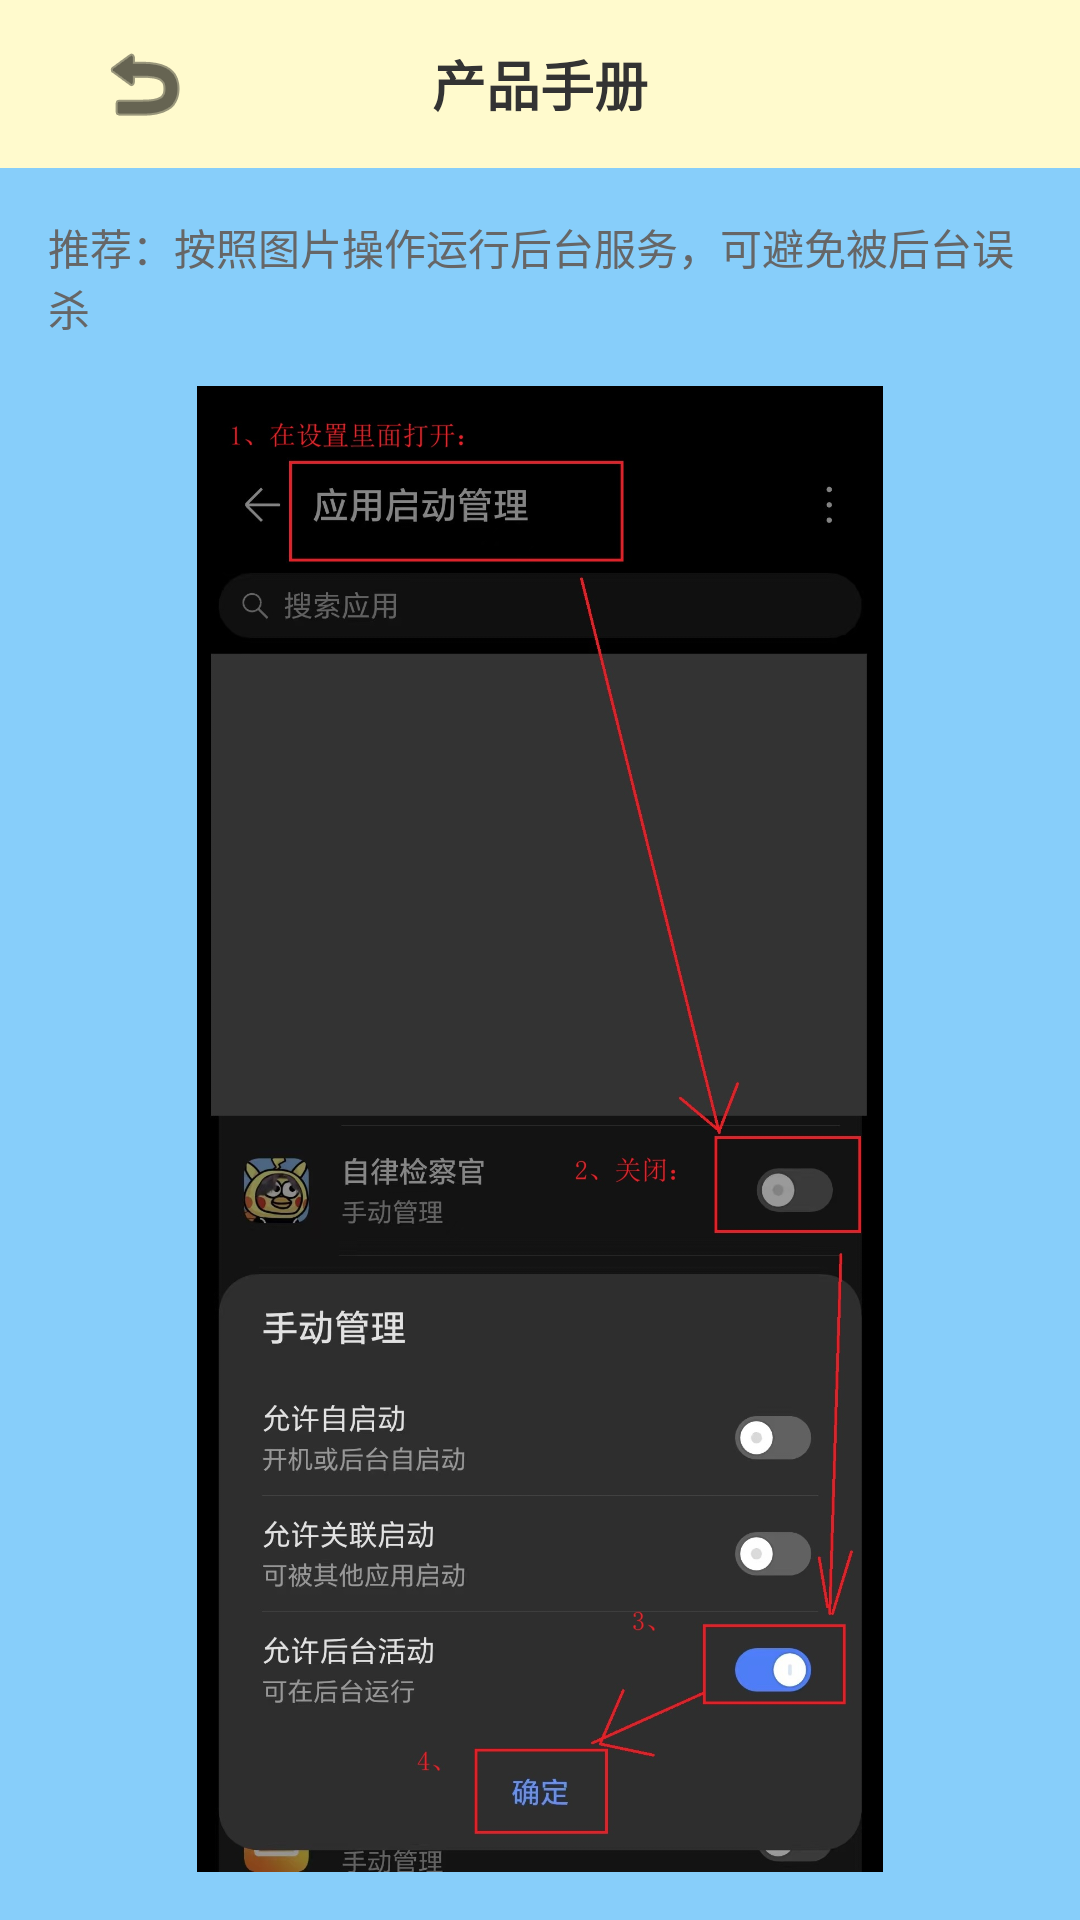

Named icons in this screenshot (1080px x 1920px) and their centers, (x,y):
revert: (145,84)
